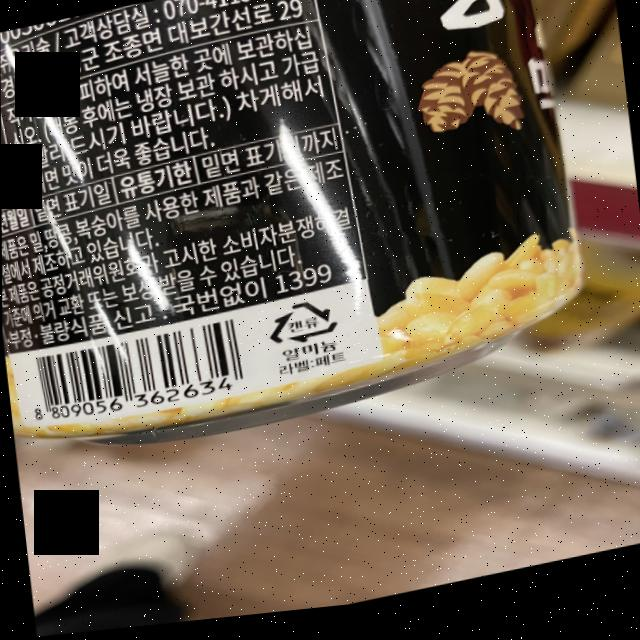Glass: (261, 299, 341, 356)
